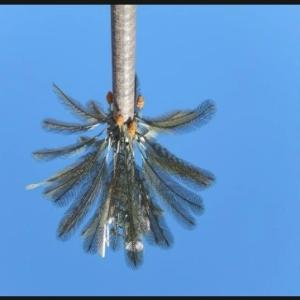palm tree: (25, 4, 217, 269)
